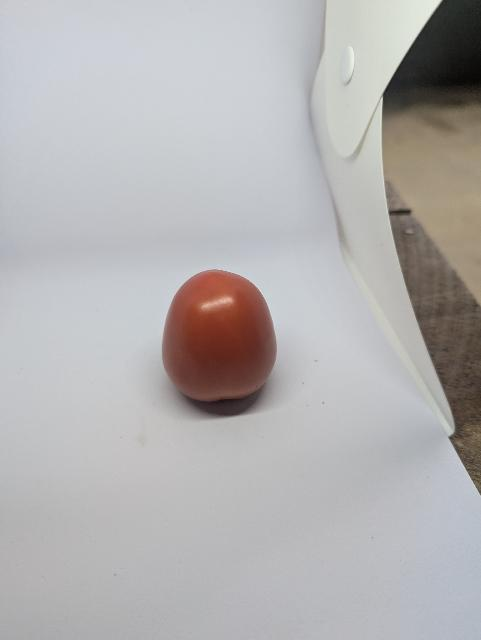red: (155, 259, 286, 434)
